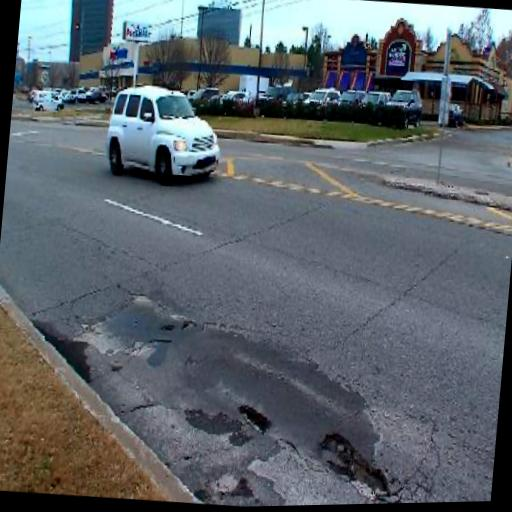pothole: (314, 426, 396, 503), (236, 398, 272, 432), (180, 314, 196, 334), (158, 317, 176, 332)
